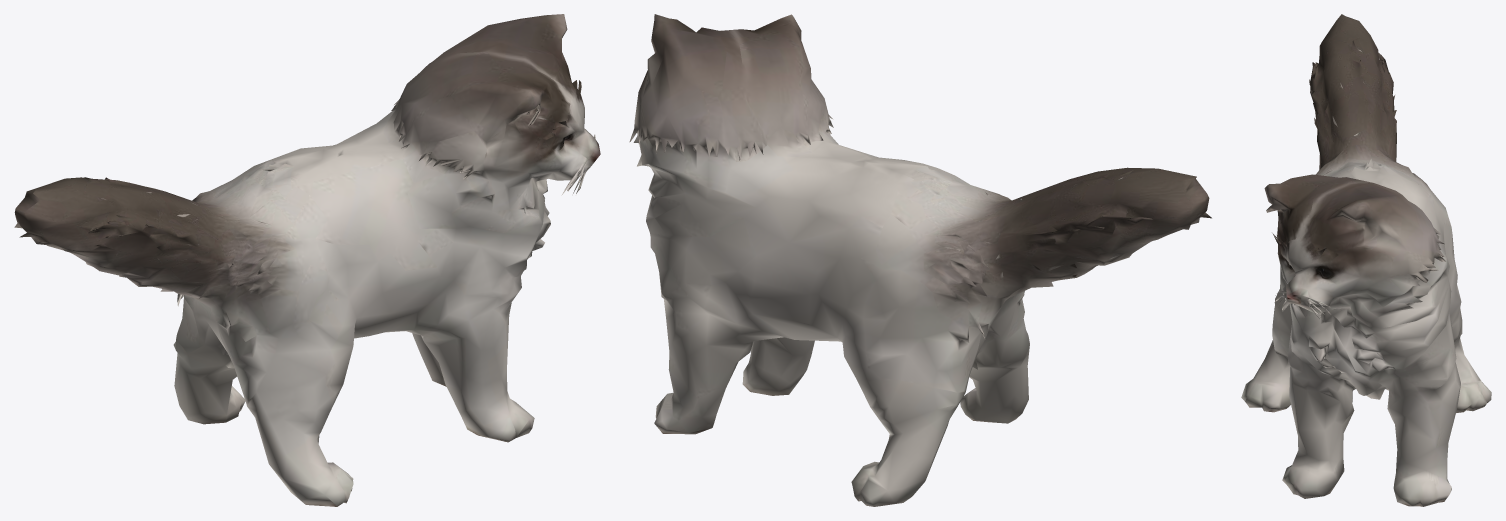
Rendered from michi-lo.glb.
3 views of the same model, side by side, from view 1: azimuth 30°, elevation 25°; view 2: azimuth 150°, elevation 25°; view 3: azimuth 270°, elevation 25° (orthographic). The views are drawn at different scales.
Visible parts, largest first — view 1: tripo_node_4349f63d-389f-45c4-adba-6a9bd8d08f26; view 2: tripo_node_4349f63d-389f-45c4-adba-6a9bd8d08f26; view 3: tripo_node_4349f63d-389f-45c4-adba-6a9bd8d08f26.
Part boxes in pixels (x1=…): tripo_node_4349f63d-389f-45c4-adba-6a9bd8d08f26: x1=14, y1=14, x2=600, y2=506; tripo_node_4349f63d-389f-45c4-adba-6a9bd8d08f26: x1=629, y1=14, x2=1211, y2=506; tripo_node_4349f63d-389f-45c4-adba-6a9bd8d08f26: x1=1241, y1=14, x2=1491, y2=506.
Bounding box in the file's own units: 1.58 × 0.9958 × 0.7015.
Materials: 1 (1 with a texture image).
